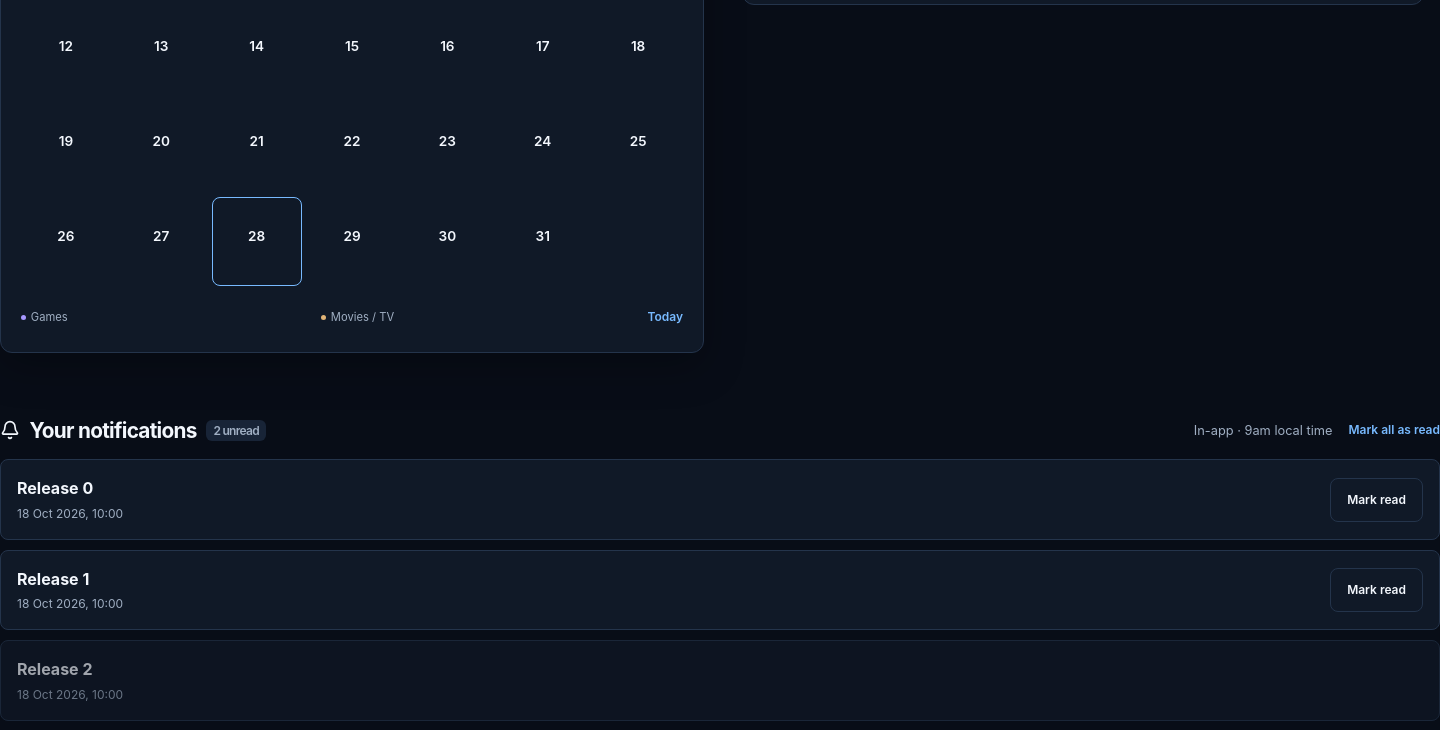
Test case: retains unread notifications on failure and permits retry
The width and height of the screenshot is (1440, 730).
(page scrolled)
Click the button "Mark all as read": (1394, 430) x1=1348 y1=415 x2=1439 y2=445
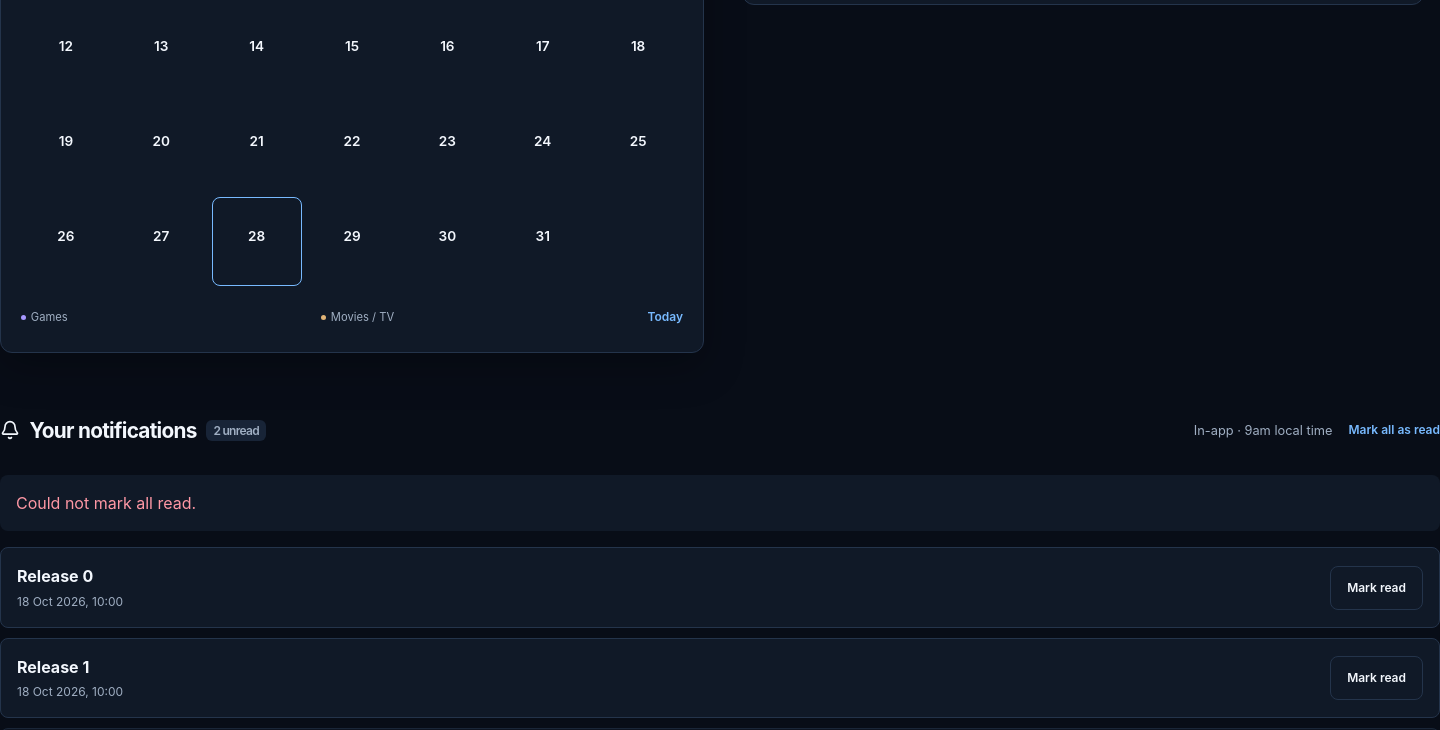
Check: the text "2 unread" is shown, box x1=206 y1=420 x2=266 y2=441
Check: the message reads "Could not mark all read.", box x1=16 y1=493 x2=196 y2=513
Click the button "Mark all as read": (1394, 430) x1=1348 y1=415 x2=1439 y2=445
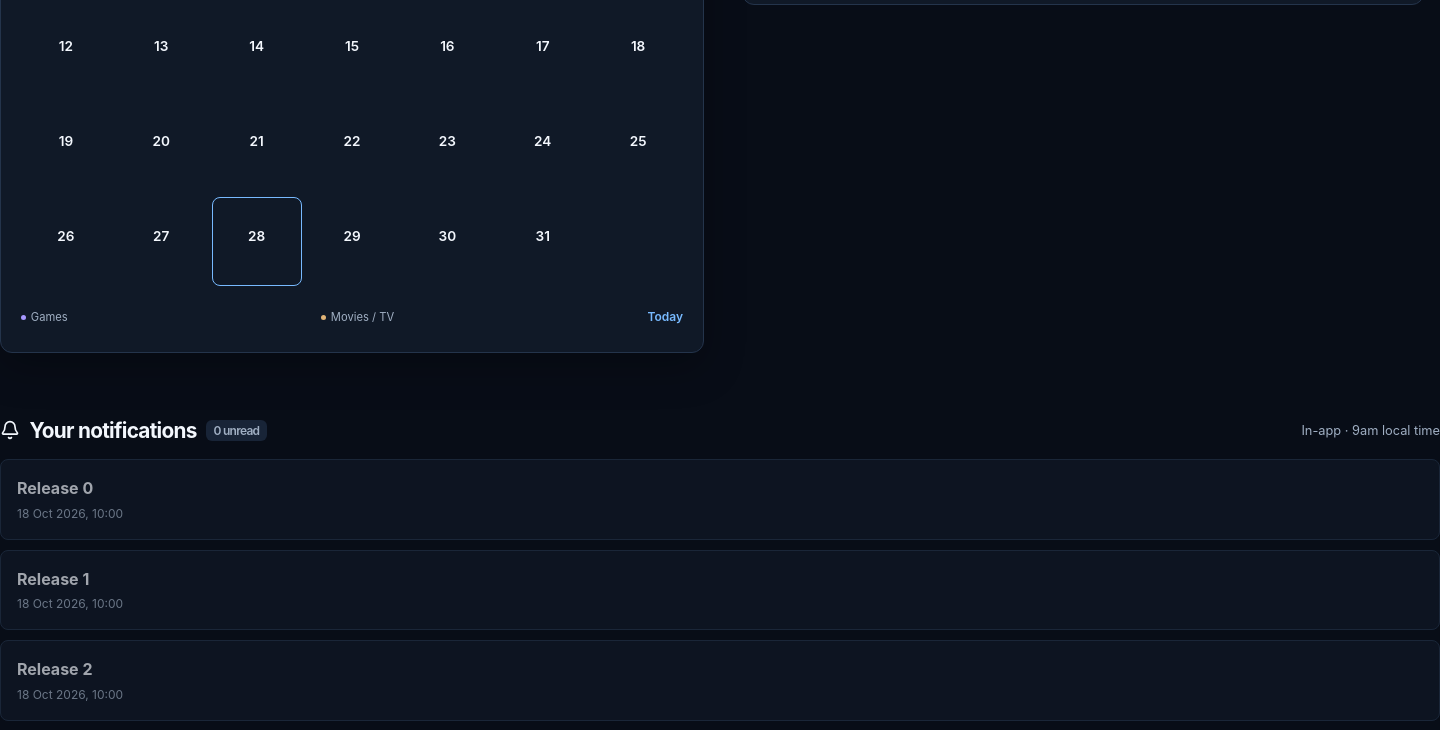
Check: the text "0 unread" is shown, box x1=206 y1=420 x2=267 y2=441
Check: the message "Could not mark all read." is gone
